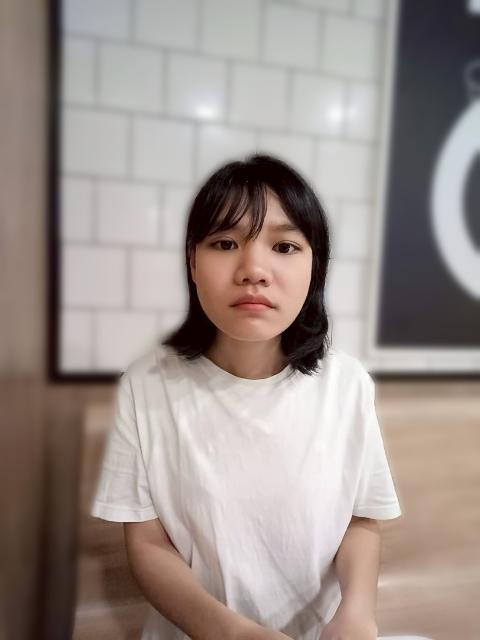fokus: (184, 154, 329, 342)
